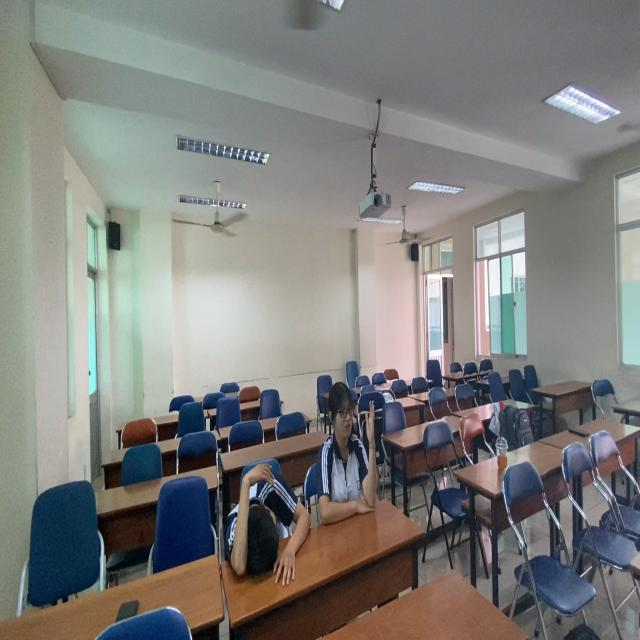sleep: (225, 461, 309, 586), (317, 373, 319, 389)
